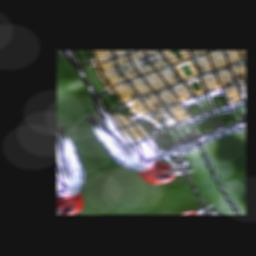Woodpecker: (67, 64, 201, 197)
